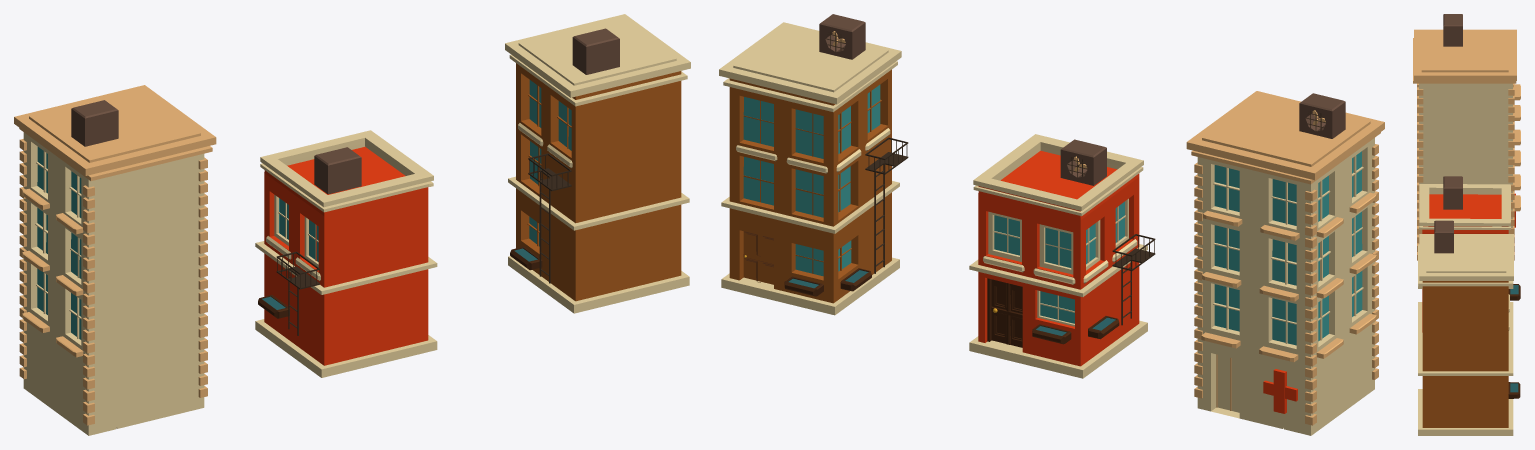
The model's file is predios.fbx.
3 views of the same model, side by side, from view 1: azimuth 30°, elevation 25°; view 2: azimuth 150°, elevation 25°; view 3: azimuth 270°, elevation 25° (orthographic). The views are drawn at different scales.
Parts seen in each view (by area): view 1: Hospital, Predio 1, Predio 2; view 2: Hospital, Predio 1, Predio 2; view 3: Predio 1, Hospital, Predio 2.
Part boxes in pixels (left/top/right/bottom): Hospital: left=14, top=85, right=216, bottom=435; Predio 1: left=505, top=14, right=690, bottom=313; Predio 2: left=255, top=130, right=437, bottom=377; Hospital: left=1186, top=91, right=1384, bottom=435; Predio 1: left=719, top=14, right=908, bottom=315; Predio 2: left=969, top=134, right=1155, bottom=378; Predio 1: left=1418, top=220, right=1520, bottom=435; Hospital: left=1413, top=14, right=1520, bottom=260; Predio 2: left=1418, top=176, right=1520, bottom=332.
Bounding box in the file's own units: 4209 × 1999 × 891.
Materials: 3 (3 with a texture image).
